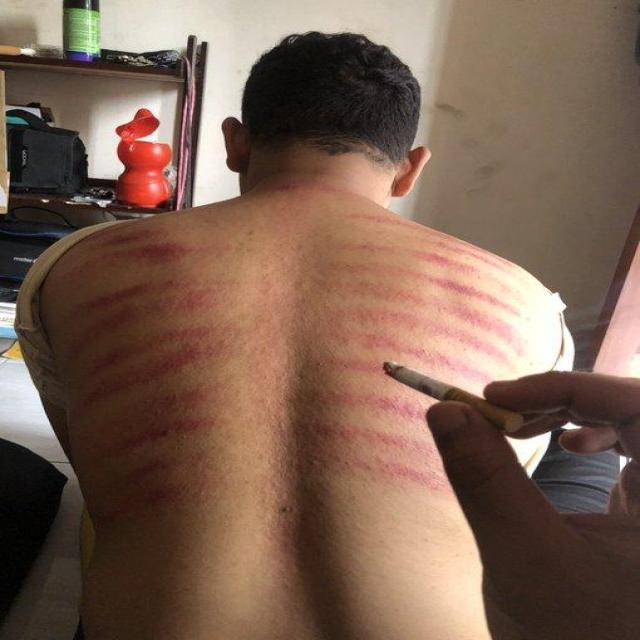rokok: (378, 356, 526, 436)
